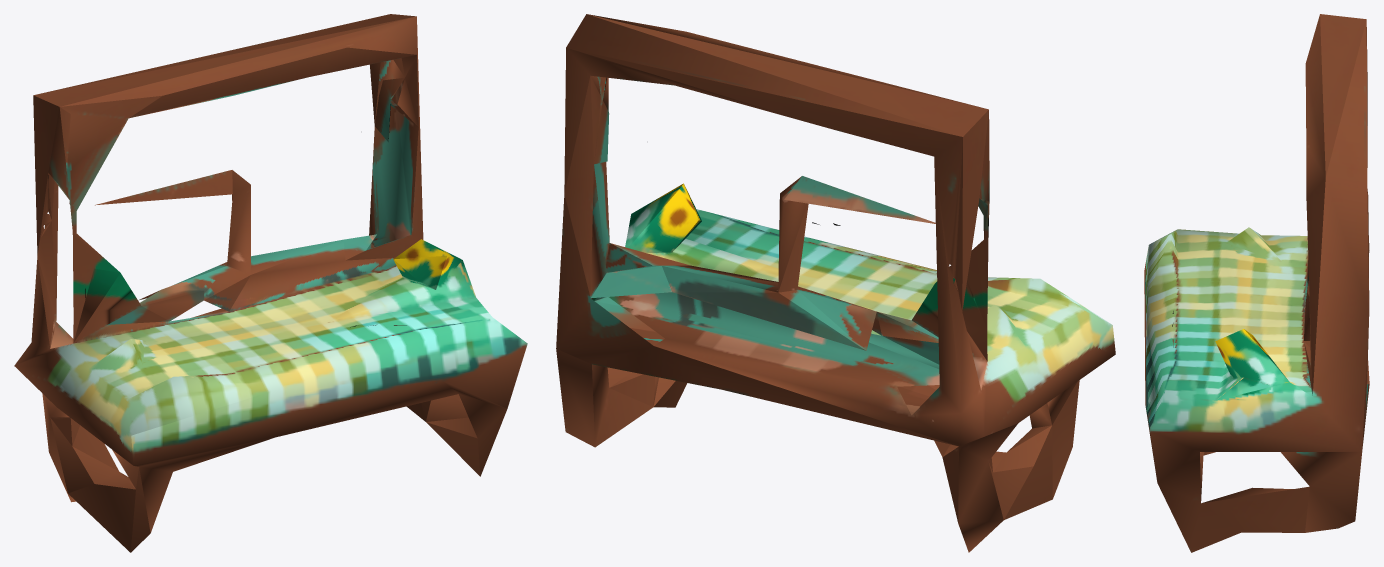
The model's file is cottage-window-bench.glb.
3 views of the same model, side by side, from view 1: azimuth 30°, elevation 25°; view 2: azimuth 150°, elevation 25°; view 3: azimuth 270°, elevation 25° (orthographic). The views are drawn at different scales.
Visible parts, largest first — view 1: geometry_0.001; view 2: geometry_0.001; view 3: geometry_0.001.
Boxes of the visible parts, bbox=[...] form: geometry_0.001: bbox=[14, 14, 527, 552]; geometry_0.001: bbox=[556, 14, 1115, 552]; geometry_0.001: bbox=[1144, 14, 1369, 552].
Bounding box in the file's own units: 0.9982 × 0.9707 × 0.5231.
1 material, 1 textured.
